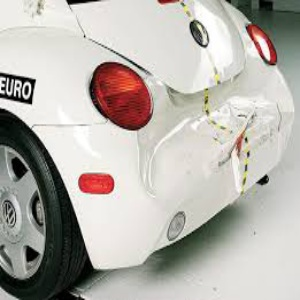bumper: (205, 87, 287, 192)
